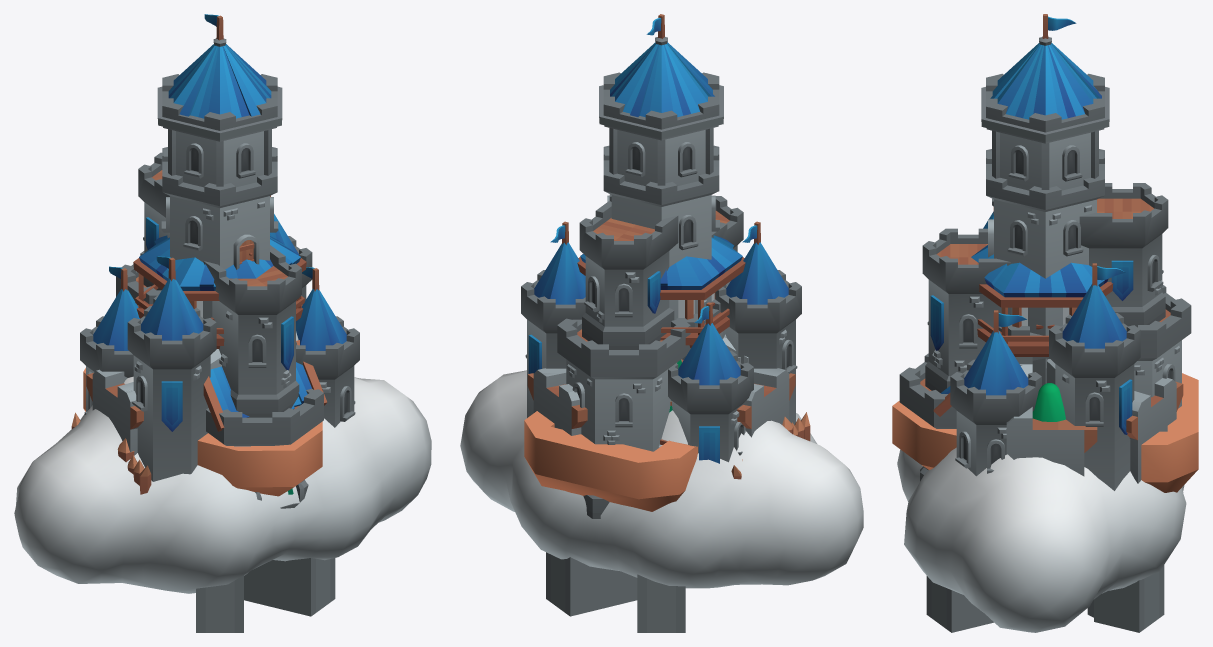
The model's file is world.glb.
3 views of the same model, side by side, from view 1: azimuth 30°, elevation 25°; view 2: azimuth 150°, elevation 25°; view 3: azimuth 270°, elevation 25° (orthographic). The views are drawn at different scales.
Visible parts, largest first — view 1: building_castle_blue, cloud_big, boat-row-small, building_tower_B_top_blue, building_bridge_A, building_bridge_B, building_watermill_blue, wall_corner_A_inside, fence_wood_straight, wall_corner_A_gate; view 2: building_castle_blue, cloud_big, boat-row-small, building_tower_B_top_blue, building_bridge_B, wall_corner_A_inside, building_bridge_A, wall_corner_A_outside, wall_corner_A_gate; view 3: building_castle_blue, cloud_big, boat-row-small, building_tower_B_top_blue, wall_straight, building_bridge_B, building_bridge_A, wall_corner_A_inside, wall_corner_A_outside, trees_B_medium, wall_corner_A_gate, building_tower_A_top_blue.
Part boxes in pixels (left/top/right/bottom): building_castle_blue: left=80, top=14, right=359, bottom=508; cloud_big: left=14, top=376, right=431, bottom=593; boat-row-small: left=83, top=368, right=322, bottom=496; building_tower_B_top_blue: left=133, top=234, right=306, bottom=348; building_bridge_A: left=244, top=558, right=335, bottom=616; building_bridge_B: left=196, top=575, right=243, bottom=632; building_watermill_blue: left=203, top=340, right=327, bottom=431; wall_corner_A_inside: left=92, top=369, right=143, bottom=455; fence_wood_straight: left=71, top=412, right=151, bottom=494; wall_corner_A_gate: left=86, top=373, right=138, bottom=429; building_castle_blue: left=521, top=14, right=801, bottom=518; cloud_big: left=460, top=370, right=863, bottom=588; boat-row-small: left=524, top=411, right=697, bottom=511; building_tower_B_top_blue: left=577, top=235, right=745, bottom=347; building_bridge_B: left=546, top=552, right=637, bottom=616; wall_corner_A_inside: left=527, top=373, right=795, bottom=432; building_bridge_A: left=637, top=574, right=685, bottom=632; wall_corner_A_outside: left=538, top=357, right=789, bottom=437; wall_corner_A_gate: left=533, top=329, right=783, bottom=436; building_castle_blue: left=899, top=14, right=1191, bottom=490; cloud_big: left=897, top=447, right=1186, bottom=632; boat-row-small: left=892, top=373, right=1198, bottom=492; building_tower_B_top_blue: left=971, top=245, right=1113, bottom=356; wall_straight: left=1006, top=407, right=1097, bottom=476; building_bridge_B: left=1087, top=565, right=1164, bottom=632; building_bridge_A: left=926, top=576, right=993, bottom=632; wall_corner_A_inside: left=1126, top=378, right=1176, bottom=483; wall_corner_A_outside: left=1134, top=381, right=1183, bottom=428; trees_B_medium: left=1032, top=383, right=1065, bottom=421; wall_corner_A_gate: left=1046, top=359, right=1178, bottom=441; building_tower_A_top_blue: left=1011, top=307, right=1076, bottom=329.
Size of the model in its own units: 3.61 by 4.98 by 2.37.
2 materials, 2 textured.
